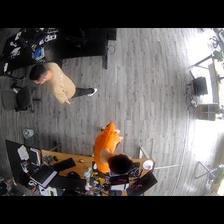normal: (28, 62, 97, 103), (92, 121, 130, 175)
